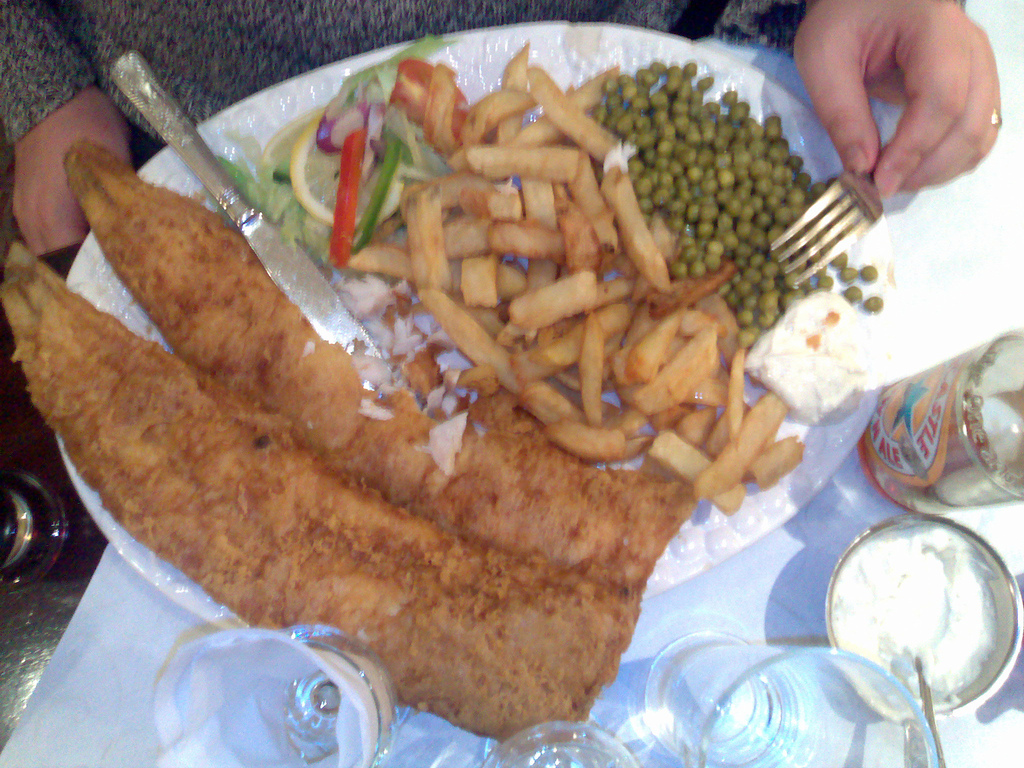boiled peas: (627, 94, 793, 245)
